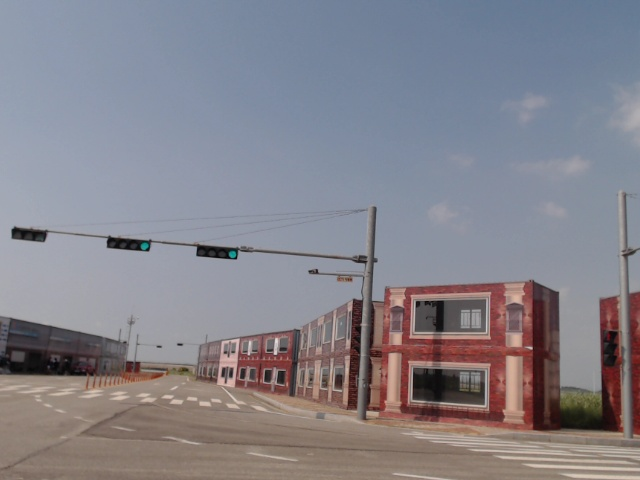straight_green_4: (196, 244, 239, 260), (107, 236, 152, 251)
